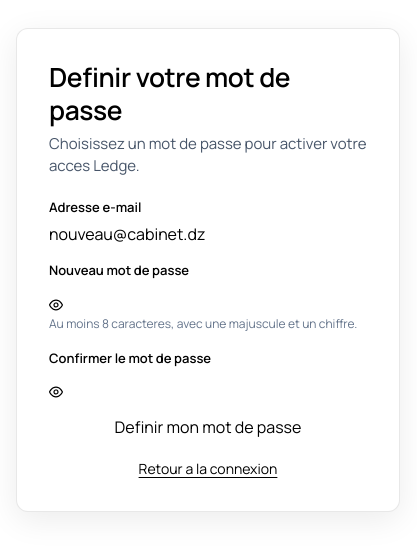
Test: DefinirMotDePassePage — lien valide › retombe sur le message generique de l'API sans details d'erreurs
Step 1. Type "Abcd1234!" into the password field with id "reset-password" → (208, 298), box left=49, top=287, right=367, bottom=309
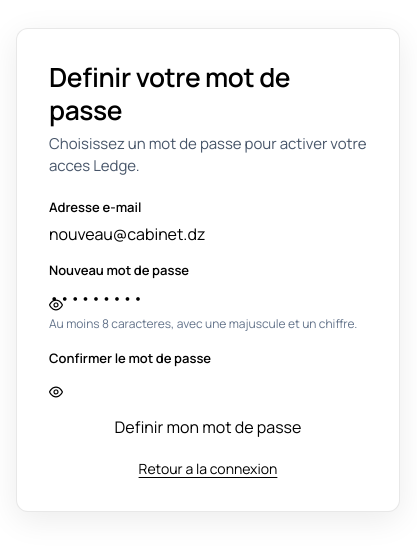
Step 2. Type "Abcd1234!" into the password field with id "reset-password-confirm" → (208, 385), box left=49, top=374, right=367, bottom=396
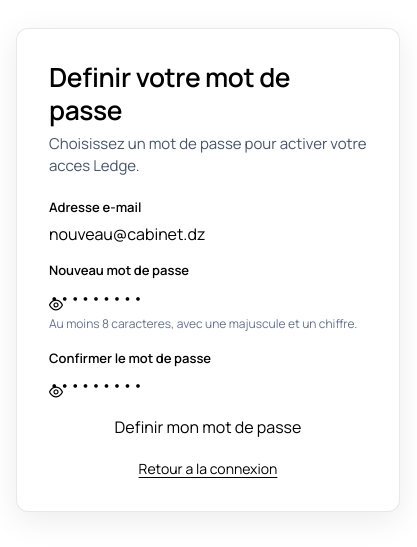
Step 3. Submit the form, box left=49, top=198, right=367, bottom=438
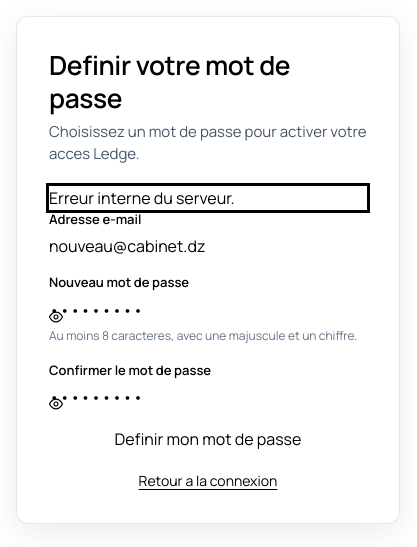
Now the message "Erreur interne du serveur." is shown, box left=49, top=187, right=235, bottom=209
